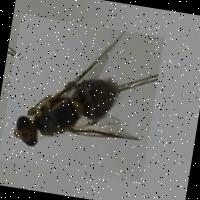Oriental-fruit-fly: (0, 13, 163, 181)
